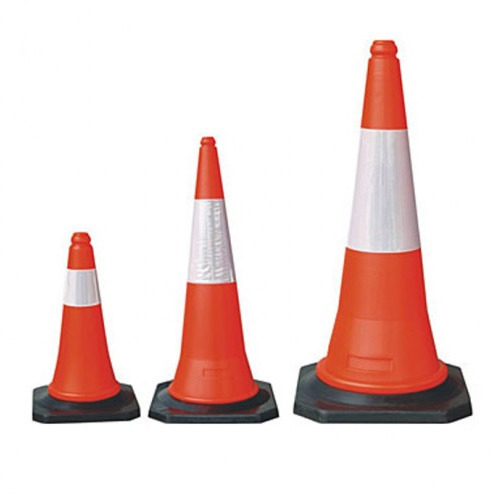cones: (292, 33, 478, 427), (145, 136, 281, 426), (29, 230, 142, 425)
